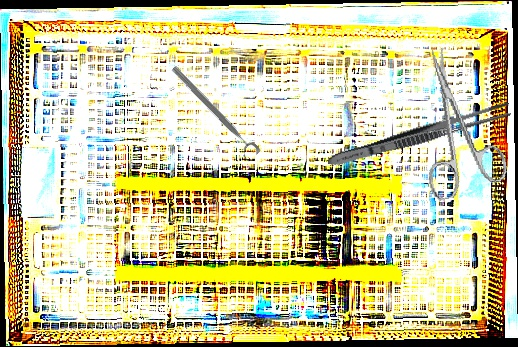Dressing Forceps: (325, 98, 513, 172)
Fixation Ring: (164, 63, 262, 164)
Iris Scissors: (400, 39, 512, 203)
